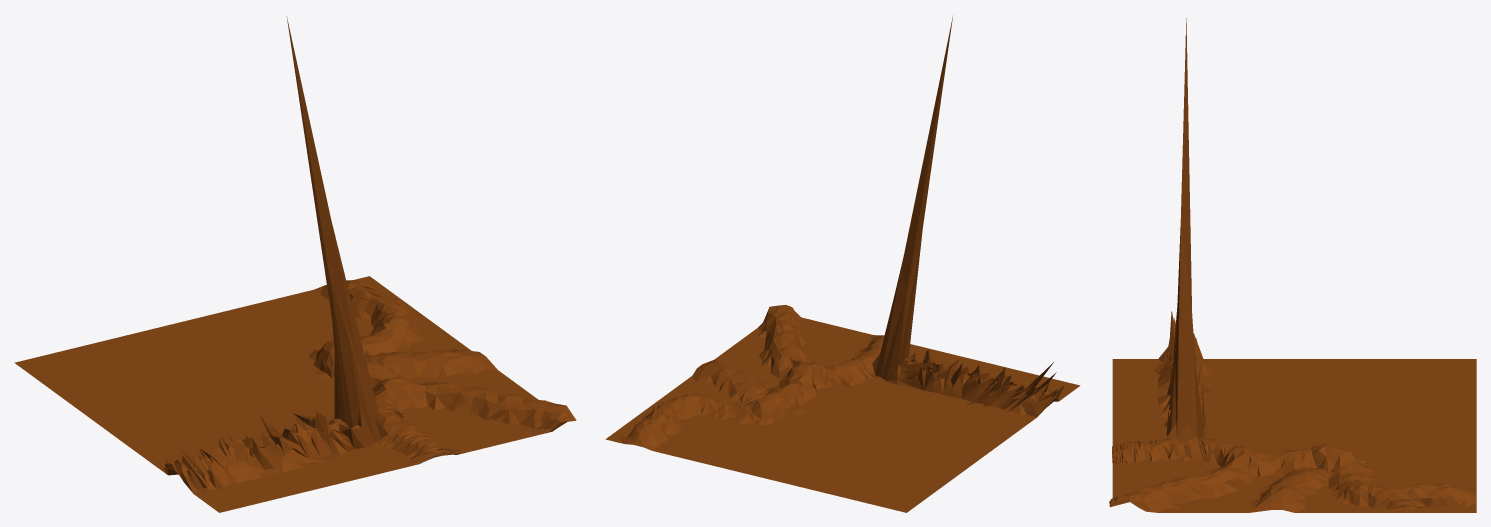
Rendered from terrain.obj.
The picture shows the model from 3 angles, left to right: view 1: azimuth 30°, elevation 25°; view 2: azimuth 150°, elevation 25°; view 3: azimuth 270°, elevation 25°; orthographic projection. The views are drawn at different scales.
Parts seen in each view (by area): view 1: Plane; view 2: Plane; view 3: Plane.
Part boxes in pixels (x1,y1,x2,y2): Plane: (14, 16, 576, 512); Plane: (605, 16, 1080, 512); Plane: (1109, 18, 1476, 512).
Bounding box in the file's own units: 1728 × 1966 × 1665.
